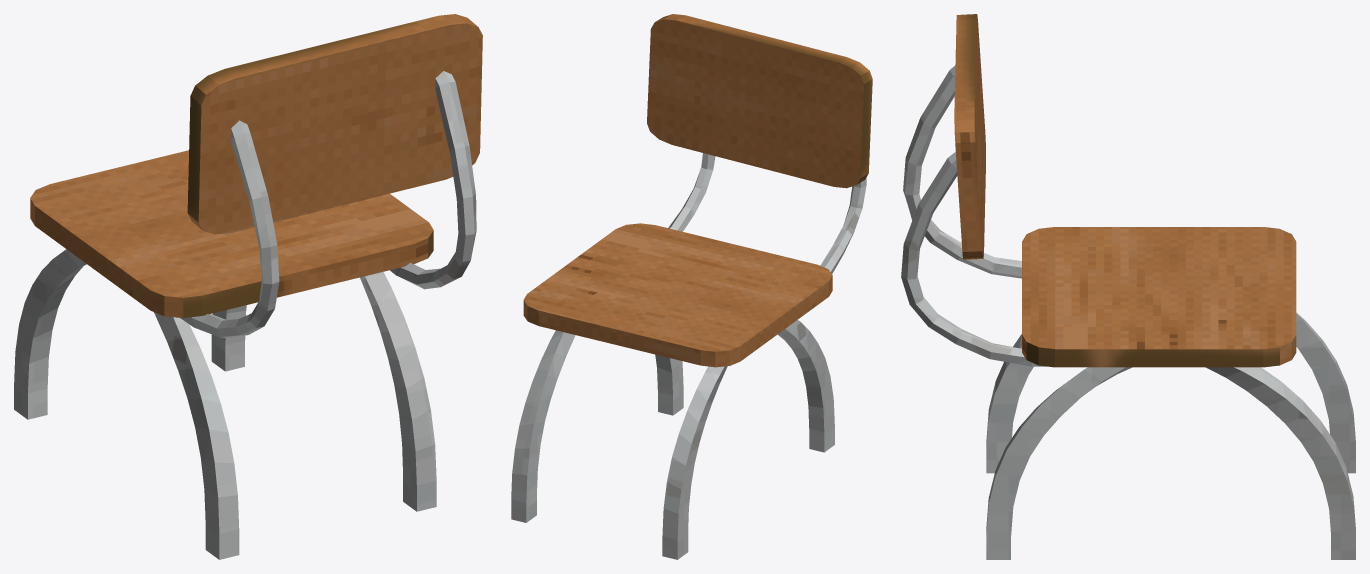
Rendered from Sedia_Rettangolo_2.fbx.
3 renders of one model, left to right at view 1: azimuth 30°, elevation 25°; view 2: azimuth 150°, elevation 25°; view 3: azimuth 270°, elevation 25°, orthographic. The views are drawn at different scales.
Parts seen in each view (by area): view 1: Cube.046; view 2: Cube.046; view 3: Cube.046.
Part boxes in pixels (<box>): Cube.046: <box>14,14,482,559</box>; Cube.046: <box>511,14,872,559</box>; Cube.046: <box>901,14,1355,559</box>.
Size of the model in its own units: 0.684 by 1.15 by 1.06.
Materials: 2 (2 with a texture image).
